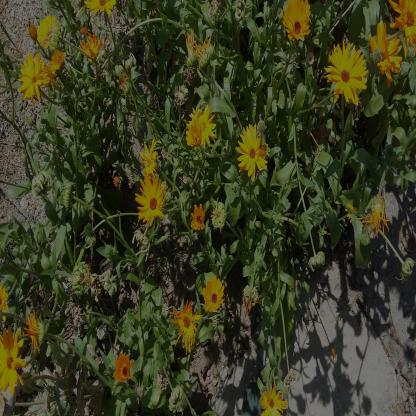marigold: (324, 40, 368, 106), (368, 20, 402, 88), (0, 325, 27, 398), (134, 173, 166, 226), (237, 121, 267, 176), (170, 298, 204, 346), (19, 51, 49, 104), (386, 1, 416, 47), (281, 0, 312, 44), (187, 102, 216, 148), (34, 14, 59, 48), (202, 276, 223, 312), (345, 188, 366, 223), (113, 352, 136, 383), (140, 140, 159, 175)
